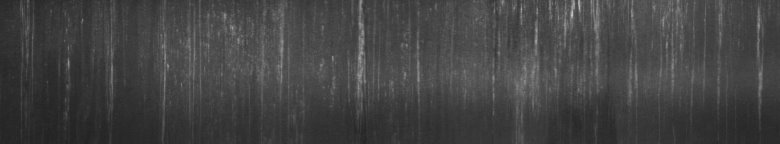ka: (22, 4, 419, 127)
